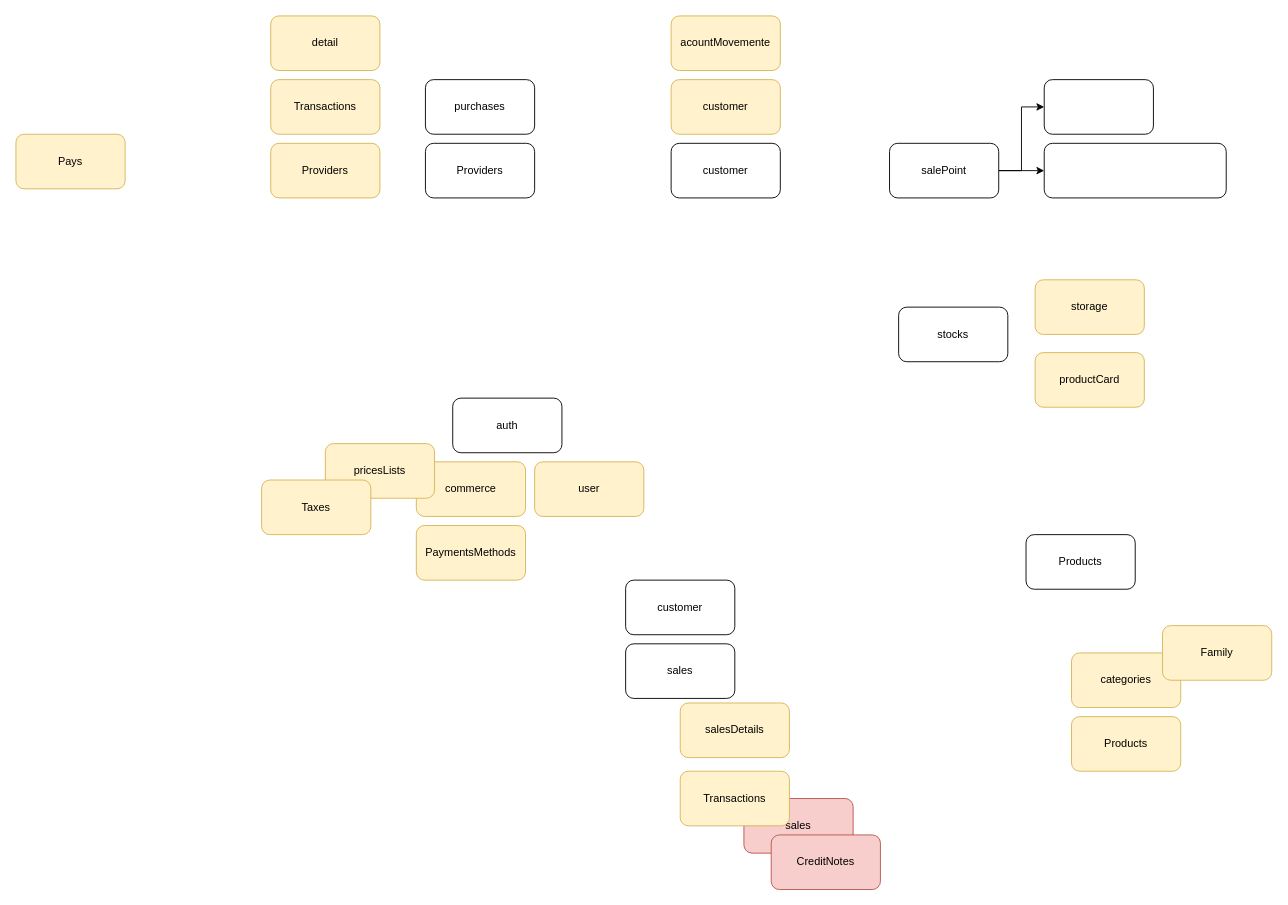
The diagram is 1288 pixels wide and 905 high, and some of its shapes have lost their labels. The centre of each missing label's shape, as x and y in pixels:
cashRegisters: [1098,106]
cashRegistersMovements: [1134,170]
